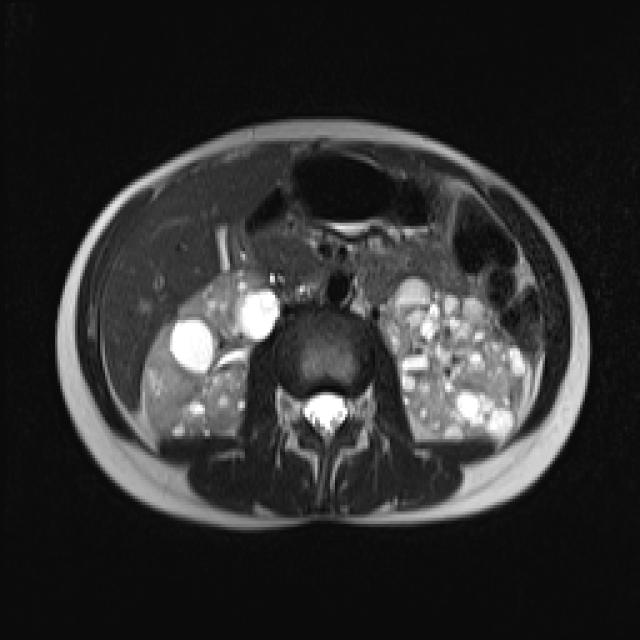sag: (146, 269, 281, 440)
sol: (387, 277, 524, 442)
